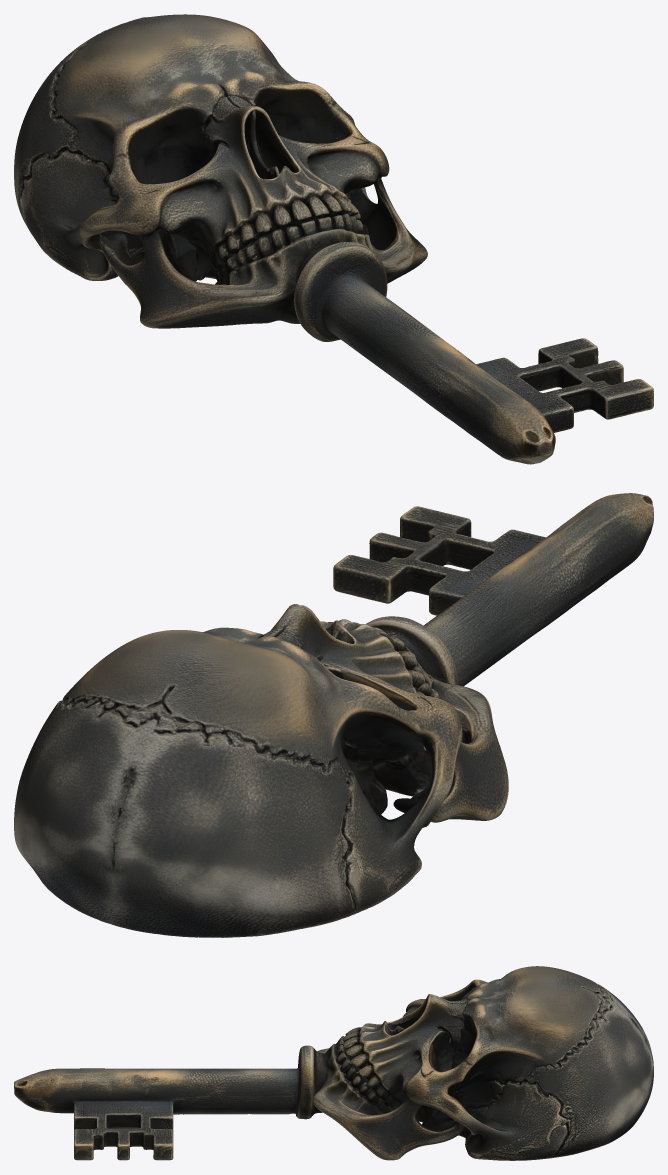
Rendered from skull-key.glb.
The picture shows the model from 3 angles, top to bottom: view 1: azimuth 30°, elevation 25°; view 2: azimuth 150°, elevation 25°; view 3: azimuth 270°, elevation 25°; orthographic projection. The views are drawn at different scales.
Parts seen in each view (by area): view 1: Object_5, Object_6, Object_7; view 2: Object_6, Object_5, Object_7; view 3: Object_6, Object_5, Object_7.
Boxes of the visible parts, x1,y1,x2,y2 form: Object_5: [14, 15, 598, 464]; Object_6: [14, 14, 427, 328]; Object_7: [185, 190, 653, 464]; Object_6: [14, 619, 508, 937]; Object_5: [115, 502, 653, 936]; Object_7: [328, 493, 653, 730]; Object_6: [342, 966, 653, 1160]; Object_5: [14, 981, 601, 1160]; Object_7: [14, 1027, 363, 1160].
Bounding box in the file's own units: 0.7337 × 0.4371 × 1.9.
Materials: 1 (1 with a texture image).
